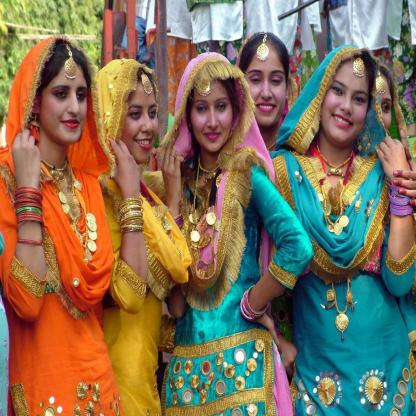face: (42, 53, 89, 144), (323, 58, 371, 146), (245, 48, 285, 124), (123, 81, 159, 162), (193, 81, 231, 153), (363, 75, 393, 145)
